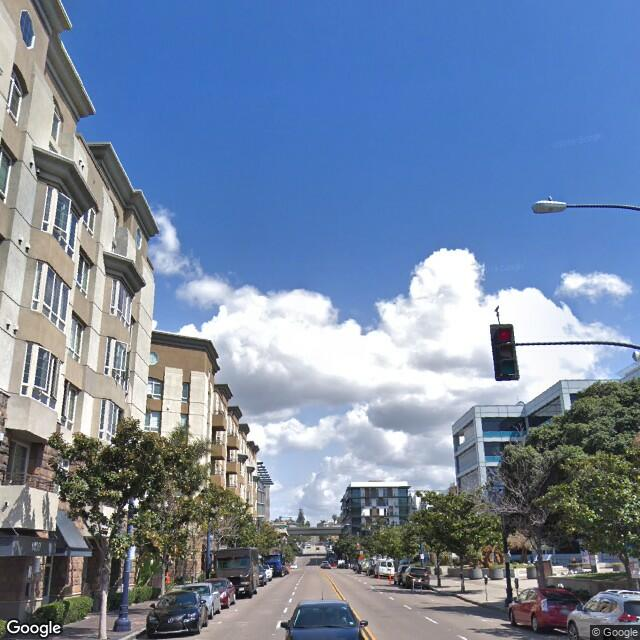light: (532, 196, 569, 218)
window: (28, 336, 57, 402), (107, 341, 130, 382), (45, 270, 65, 317)
